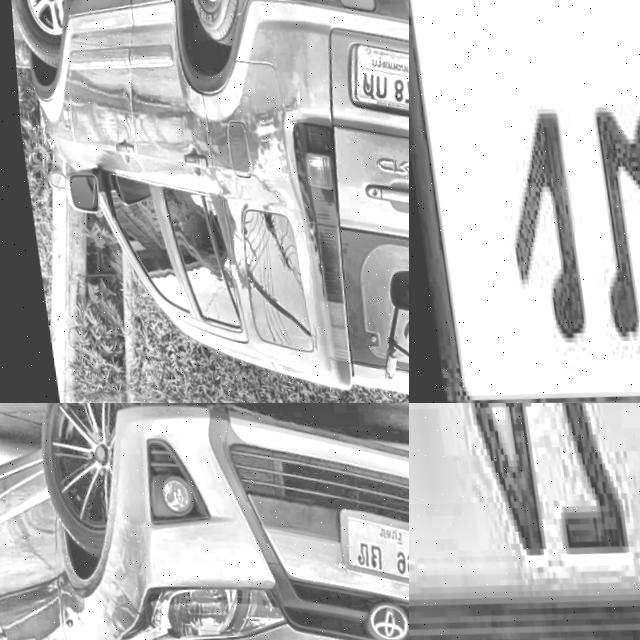license-plate: (409, 0, 640, 403), (409, 403, 640, 640), (331, 495, 409, 596), (340, 30, 409, 119)
